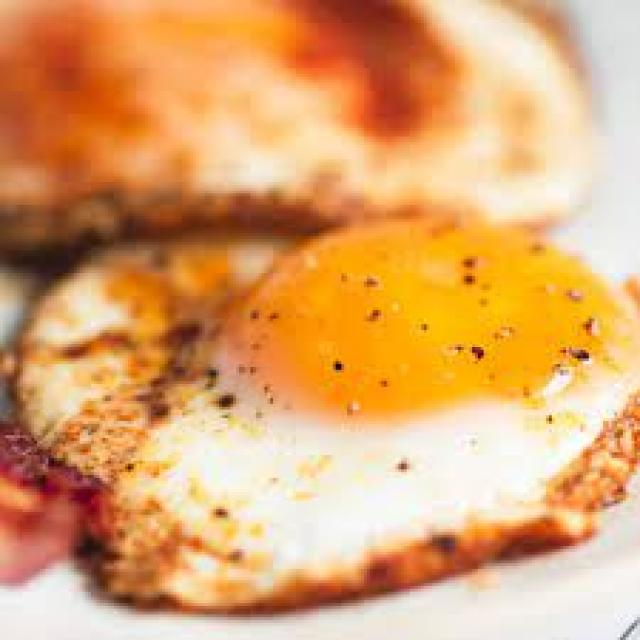Egg: (20, 219, 640, 611)
